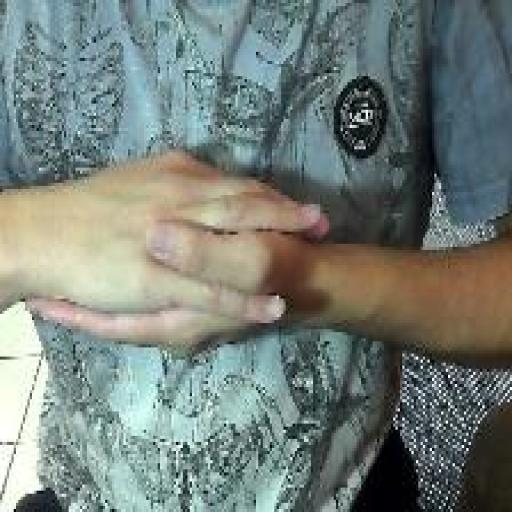Saru -monkey-: (18, 140, 336, 366)
